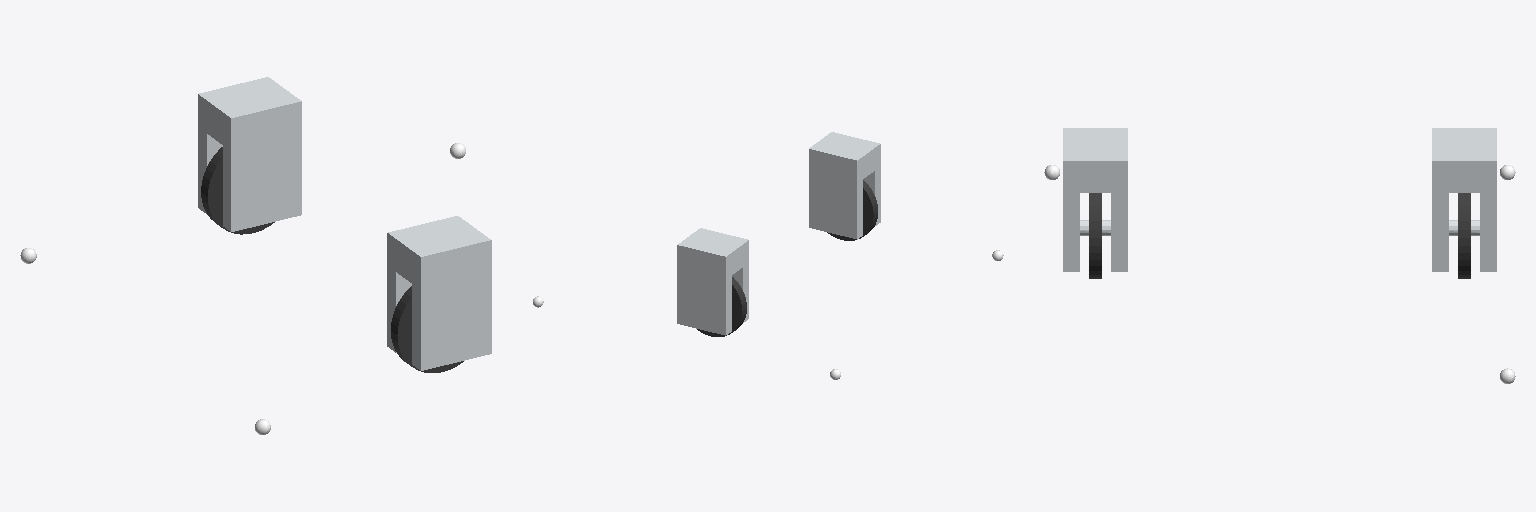
URDF robot description (robot_urdf):
<?xml version="1.0" encoding="utf-8"?>
<!-- This URDF was automatically created by SolidWorks to URDF Exporter! Originally created by
Stephen Brawner (brawner@gmail.com) 
     Commit Version: 1.6.0-4-g7f85cfe  Build Version: 1.6.7995.38578
     For more information, please see http://wiki.ros.org/sw_urdf_exporter -->
<robot
  name="robot_urdf">
  <link
    name="base_link">
  </link>
  <link
    name="chassis_link">
    <inertial>
      <origin
        xyz="-0.0030051 -4.1286E-16 -0.017698"
        rpy="0 0 0" />
      <mass
        value="62.522" />
      <inertia
        ixx="27.455"
        ixy="-5.3228E-14"
        ixz="-0.071116"
        iyy="29.275"
        iyz="-1.4137E-15"
        izz="51.49" />
    </inertial>
    <visual>
      <origin
        xyz="0 0 0"
        rpy="0 0 0" />
      <geometry>
        <mesh
          filename="package://robot_urdf/meshes/2w/chassis_link.STL" />
      </geometry>
      <material
        name="">
        <color
          rgba="0.89804 0.91765 0.92941 1" />
      </material>
    </visual>
    <collision>
      <origin
        xyz="0 0 0"
        rpy="0 0 0" />
      <geometry>
        <mesh
          filename="package://robot_urdf/meshes/2w/chassis_link.STL" />
      </geometry>
    </collision>
  </link>
  <joint
    name="chassis_joint"
    type="fixed">
    <origin
      xyz="0.011288 -0.015426 0.96832"
      rpy="0 0 0" />
    <parent
      link="base_link" />
    <child
      link="chassis_link" />
    <axis
      xyz="0 0 0" />
  </joint>
  <link
    name="left_wheel_holder_link">
    <inertial>
      <origin
        xyz="2.0817E-16 -2.2204E-16 -0.2296"
        rpy="0 0 0" />
      <mass
        value="4.2419" />
      <inertia
        ixx="0.1287"
        ixy="-1.0555E-16"
        ixz="-1.5933E-16"
        iyy="0.13522"
        iyz="5.002E-17"
        izz="0.079121" />
    </inertial>
    <visual>
      <origin
        xyz="0 0 0"
        rpy="0 0 0" />
      <geometry>
        <mesh
          filename="package://robot_urdf/meshes/2w/left_wheel_holder_link.STL" />
      </geometry>
      <material
        name="">
        <color
          rgba="0.89804 0.91765 0.92941 1" />
      </material>
    </visual>
    <collision>
      <origin
        xyz="0 0 0"
        rpy="0 0 0" />
      <geometry>
        <mesh
          filename="package://robot_urdf/meshes/2w/left_wheel_holder_link.STL" />
      </geometry>
    </collision>
  </link>
  <joint
    name="left_wheel_holder_joint"
    type="fixed">
    <origin
      xyz="-0.067275 0.7012 -0.42432"
      rpy="0 0 0" />
    <parent
      link="chassis_link" />
    <child
      link="left_wheel_holder_link" />
    <axis
      xyz="0 0 0" />
  </joint>
  <link
    name="left_wheel_link">
    <inertial>
      <origin
        xyz="-6.9389E-18 1.1102E-16 -2.7756E-17"
        rpy="0 0 0" />
      <mass
        value="5.9118" />
      <inertia
        ixx="0.056856"
        ixy="-6.9119E-18"
        ixz="-4.2487E-34"
        iyy="0.11125"
        iyz="-5.5409E-35"
        izz="0.056856" />
    </inertial>
    <visual>
      <origin
        xyz="0 0 0"
        rpy="0 0 0" />
      <geometry>
        <mesh
          filename="package://robot_urdf/meshes/2w/left_wheel_link.STL" />
      </geometry>
      <material
        name="">
        <color
          rgba="0.29804 0.29804 0.29804 1" />
      </material>
    </visual>
    <collision>
      <origin
        xyz="0 0 0"
        rpy="0 0 0" />
      <geometry>
        <mesh
          filename="package://robot_urdf/meshes/2w/left_wheel_link.STL" />
      </geometry>
    </collision>
  </link>
  <joint
    name="left_wheel_joint"
    type="continuous">
    <origin
      xyz="0 0 -0.35"
      rpy="0 0 0" />
    <parent
      link="left_wheel_holder_link" />
    <child
      link="left_wheel_link" />
    <axis
      xyz="0 1 0" />
    <dynamics damping="0.1" friction="0.05" />
    <limit
      effort="100"
      velocity="10" />
  </joint>
  <link
    name="right_wheel_holder_link">
    <inertial>
      <origin
        xyz="1.1102E-16 -1.1102E-16 -0.2296"
        rpy="0 0 0" />
      <mass
        value="4.2419" />
      <inertia
        ixx="0.1287"
        ixy="-8.8611E-17"
        ixz="-1.7835E-16"
        iyy="0.13522"
        iyz="-2.9429E-18"
        izz="0.079121" />
    </inertial>
    <visual>
      <origin
        xyz="0 0 0"
        rpy="0 0 0" />
      <geometry>
        <mesh
          filename="package://robot_urdf/meshes/2w/right_wheel_holder_link.STL" />
      </geometry>
      <material
        name="">
        <color
          rgba="0.89804 0.91765 0.92941 1" />
      </material>
    </visual>
    <collision>
      <origin
        xyz="0 0 0"
        rpy="0 0 0" />
      <geometry>
        <mesh
          filename="package://robot_urdf/meshes/2w/right_wheel_holder_link.STL" />
      </geometry>
    </collision>
  </link>
  <joint
    name="right_wheel_holder_joint"
    type="fixed">
    <origin
      xyz="-0.067275 -0.7012 -0.42432"
      rpy="0 0 0" />
    <parent
      link="chassis_link" />
    <child
      link="right_wheel_holder_link" />
    <axis
      xyz="0 0 0" />
  </joint>
  <link
    name="right_wheel_link">
    <inertial>
      <origin
        xyz="-6.9389E-18 -1.1102E-16 -2.7756E-17"
        rpy="0 0 0" />
      <mass
        value="5.9118" />
      <inertia
        ixx="0.056856"
        ixy="-3.2189E-35"
        ixz="-8.4142E-34"
        iyy="0.11125"
        iyz="1.4733E-18"
        izz="0.056856" />
    </inertial>
    <visual>
      <origin
        xyz="0 0 0"
        rpy="0 0 0" />
      <geometry>
        <mesh
          filename="package://robot_urdf/meshes/2w/right_wheel_link.STL" />
      </geometry>
      <material
        name="">
        <color
          rgba="0.29804 0.29804 0.29804 1" />
      </material>
    </visual>
    <collision>
      <origin
        xyz="0 0 0"
        rpy="0 0 0" />
      <geometry>
        <mesh
          filename="package://robot_urdf/meshes/2w/right_wheel_link.STL" />
      </geometry>
    </collision>
  </link>

  <joint
    name="right_wheel_joint"
    type="continuous">
    <origin
      xyz="0 0 -0.35"
      rpy="0 0 0" />
    <parent
      link="right_wheel_holder_link" />
    <child
      link="right_wheel_link" />
    <axis
      xyz="0 1 0" />
    <dynamics damping="0.1" friction="0.05" />
    <limit
      effort="100"
      velocity="10" />
  </joint>

  <link
    name="depth_link_r">
  </link>

  <joint
    name="depth_joint_r"
    type="fixed">
    <origin
      xyz="1.017 -0.45 -0.21645"
      rpy="0 0.7853982 0.2618" />
    <parent
      link="chassis_link" />
    <child
      link="depth_link_r" />
    <axis
      xyz="0 0 0" />
  </joint>

  <link
    name="depth_link_l">
  </link>

  <joint
    name="depth_joint_l"
    type="fixed">
    <origin
      xyz="1.017 0.45 -0.21645"
      rpy="0 0.7853982 -0.2618" />
    <parent
      link="chassis_link" />
    <child
      link="depth_link_l" />
    <axis
      xyz="0 0 0" />
  </joint>

  <link
    name="ball_link_fl">
    <inertial>
      <origin
        xyz="0 0 0"
        rpy="0 0 0" />
      <mass
        value="0.20471" />
      <inertia
        ixx="7.3694E-05"
        ixy="0"
        ixz="0"
        iyy="7.3694E-05"
        iyz="0"
        izz="7.3694E-05" />
    </inertial>
    <visual>
      <origin
        xyz="0 0 0"
        rpy="0 0 0" />
      <geometry>
        <mesh
          filename="package://robot_urdf/meshes/2w/ball_link_fl.STL" />
      </geometry>
      <material
        name="">
        <color
          rgba="1 1 1 1" />
      </material>
    </visual>
    <collision>
      <origin xyz="0 0 0" rpy="0 0 0" />
      <geometry>
        <sphere radius="0.025" />
      </geometry>
    </collision>
  </link>

  <joint
    name="ball_joint_fl"
    type="fixed">
    <origin
      xyz="0.917 0.866 -0.93831"
      rpy="0 0 0" />
    <parent
      link="chassis_link" />
    <child
      link="ball_link_fl" />
    <axis
      xyz="0 0 0" />
  </joint>

  <link
    name="ball_link_fr">
    <inertial>
      <origin
        xyz="0 -1.1102E-16 0"
        rpy="0 0 0" />
      <mass
        value="0.20471" />
      <inertia
        ixx="7.3694E-05"
        ixy="0"
        ixz="0"
        iyy="7.3694E-05"
        iyz="0"
        izz="7.3694E-05" />
    </inertial>
    <visual>
      <origin
        xyz="0 0 0"
        rpy="0 0 0" />
      <geometry>
        <mesh
          filename="package://robot_urdf/meshes/2w/ball_link_fr.STL" />
      </geometry>
      <material
        name="">
        <color
          rgba="1 1 1 1" />
      </material>
    </visual>
    <collision>
      <origin xyz="0 0 0" rpy="0 0 0" />
      <geometry>
        <sphere radius="0.025" />
      </geometry>
    </collision>
  </link>

  <joint
    name="ball_joint_fr"
    type="fixed">
    <origin
      xyz="0.917 -0.866 -0.93831"
      rpy="0 0 0" />
    <parent
      link="chassis_link" />
    <child
      link="ball_link_fr" />
    <axis
      xyz="0 0 0" />
  </joint>

  <link
    name="ball_link_br">
    <inertial>
      <origin
        xyz="0 -1.1102E-16 0"
        rpy="0 0 0" />
      <mass
        value="0.20471" />
      <inertia
        ixx="7.3694E-05"
        ixy="0"
        ixz="0"
        iyy="7.3694E-05"
        iyz="0"
        izz="7.3694E-05" />
    </inertial>
    <visual>
      <origin
        xyz="0 0 0"
        rpy="0 0 0" />
      <geometry>
        <mesh
          filename="package://robot_urdf/meshes/2w/ball_link_br.STL" />
      </geometry>
      <material
        name="">
        <color
          rgba="1 1 1 1" />
      </material>
    </visual>
    <collision>
      <origin xyz="0 0 0" rpy="0 0 0" />
      <geometry>
        <sphere radius="0.025" />
      </geometry>
    </collision>
  </link>

  <joint
    name="ball_joint_br"
    type="fixed">
    <origin
      xyz="-0.917 -0.866 -0.93831"
      rpy="3.1416 0 3.1416" />
    <parent
      link="chassis_link" />
    <child
      link="ball_link_br" />
    <axis
      xyz="0 0 0" />
  </joint>

  <link
    name="ball_link_bl">
    <inertial>
      <origin
        xyz="0 0 0"
        rpy="0 0 0" />
      <mass
        value="0.20471" />
      <inertia
        ixx="7.3694E-05"
        ixy="0"
        ixz="0"
        iyy="7.3694E-05"
        iyz="0"
        izz="7.3694E-05" />
    </inertial>
    <visual>
      <origin
        xyz="0 0 0"
        rpy="0 0 0" />
      <geometry>
        <mesh
          filename="package://robot_urdf/meshes/2w/ball_link_bl.STL" />
      </geometry>
      <material
        name="">
        <color
          rgba="1 1 1 1" />
      </material>
    </visual>
    <collision>
      <origin xyz="0 0 0" rpy="0 0 0" />
      <geometry>
        <sphere radius="0.025" />
      </geometry>
    </collision>
  </link>

  <joint
    name="ball_joint_bl"
    type="fixed">
    <origin
      xyz="-0.917 0.866 -0.93831"
      rpy="0 0 0" />
    <parent
      link="chassis_link" />
    <child
      link="ball_link_bl" />
    <axis
      xyz="0 0 0" />
  </joint>

  <link name="path_plane"/>

  <joint
    name="path_plane_joint"
    type="fixed">
    <origin
      xyz="1.017 0 -0.93831"
      rpy="0 0 0" />
    <parent
      link="chassis_link" />
    <child
      link="path_plane" />
    <axis
      xyz="0 0 0" />
  </joint>

  <ros2_control name="IgnitionSystem" type="system">

    <hardware>
      <plugin>ign_ros2_control/IgnitionSystem</plugin>
    </hardware>

    <joint name="left_wheel_joint">
      <command_interface name="velocity" />
      <state_interface name="position" />
      <state_interface name="velocity" />
    </joint>

    <joint name="right_wheel_joint">
      <command_interface name="velocity" />
      <state_interface name="position" />
      <state_interface name="velocity" />
    </joint>

  </ros2_control>

  <gazebo>

    <plugin filename="libign_ros2_control-system.so"
      name="ign_ros2_control::IgnitionROS2ControlPlugin">
      <robot_param>robot_description</robot_param>
      <robot_param_node>robot_state_publisher</robot_param_node>
      <parameters>/home/manfred/Projects/Vitrox/src/robot_urdf/config/diffdrive.yaml</parameters>
    </plugin>

  </gazebo>

  <gazebo reference="left_wheel_link">
    <mu1>1.2</mu1>
    <mu2>1.2</mu2>
    <kp>1000000.0</kp>
    <kd>100.0</kd>
    <minDepth>0.001</minDepth>
    <maxContacts>1</maxContacts>
  </gazebo>

  <gazebo reference="right_wheel_link">
    <mu1>1.2</mu1>
    <mu2>1.2</mu2>
    <kp>1000000.0</kp>
    <kd>100.0</kd>
    <minDepth>0.001</minDepth>
    <maxContacts>1</maxContacts>
  </gazebo>

  <gazebo reference="ball_link_fl">
    <mu1>0.0</mu1>
    <mu2>0.0</mu2>
  </gazebo>

  <gazebo reference="ball_link_fr">
    <mu1>0.0</mu1>
    <mu2>0.0</mu2>
  </gazebo>

  <gazebo reference="ball_link_br">
    <mu1>0.0</mu1>
    <mu2>0.0</mu2>
  </gazebo>

  <gazebo reference="ball_link_bl">
    <mu1>0.0</mu1>
    <mu2>0.0</mu2>
  </gazebo>

  <gazebo reference="depth_link_l">
    <sensor name="depth_sensor_l" type="gpu_lidar">
      <ignition_frame_id>depth_link_l</ignition_frame_id>
      <topic>lidar_l</topic>
      <update_rate>10</update_rate>
      <always_on>true</always_on>
      <visualize>false</visualize> <!-- Keep false to save resources unless debugging rays -->
      <lidar>
        <scan>
          <horizontal>
            <samples>360</samples>
            <resolution>1</resolution>
            <min_angle>-0.50705</min_angle>
            <max_angle>0.50705</max_angle>
          </horizontal>
          <vertical>
            <samples>100</samples> <!-- 16 vertical slices provides a good 3D point cloud -->
            <resolution>1</resolution>
            <min_angle>-0.39445</min_angle> <!-- -15 degrees -->
            <max_angle>0.39445</max_angle>  <!-- +15 degrees -->
          </vertical>
        </scan>
        <range>
          <min>0.1</min>
          <max>15.0</max> <!-- 15 meter range is typical -->
          <resolution>0.01</resolution>
        </range>
        <noise>
          <type>gaussian</type>
          <mean>0.0</mean>
          <stddev>0.01</stddev>
        </noise>
      </lidar>
    </sensor>
  </gazebo>

  <gazebo reference="depth_link_r">
    <sensor name="depth_sensor_r" type="gpu_lidar">
      <ignition_frame_id>depth_link_r</ignition_frame_id>
      <topic>lidar_r</topic>
      <update_rate>10</update_rate>
      <always_on>true</always_on>
      <visualize>false</visualize>
      <lidar>
        <scan>
          <horizontal>
            <samples>360</samples>
            <resolution>1</resolution>
            <min_angle>-0.50705</min_angle>
            <max_angle>0.50705</max_angle>
          </horizontal>
          <vertical>
            <samples>100</samples>
            <resolution>1</resolution>
            <min_angle>-0.39445</min_angle>
            <max_angle>0.39445</max_angle>
          </vertical>
        </scan>
        <range>
          <min>0.1</min>
          <max>15.0</max>
          <resolution>0.01</resolution>
        </range>
        <noise>
          <type>gaussian</type>
          <mean>0.0</mean>
          <stddev>0.01</stddev>
        </noise>
      </lidar>
    </sensor>
  </gazebo>

</robot>

--- Render facts (derived) ---
The picture shows the robot from 3 angles, left to right: view 1: azimuth 30°, elevation 25°; view 2: azimuth 150°, elevation 25°; view 3: azimuth 270°, elevation 25°; orthographic projection.
Model robot_urdf with 13 links and 12 joints (2 continuous, 10 fixed), rooted at base_link, posed every joint at zero.
Links seen in each view (by area): view 1: right_wheel_holder_link, left_wheel_holder_link, left_wheel_link, right_wheel_link; view 2: left_wheel_holder_link, right_wheel_holder_link, right_wheel_link, left_wheel_link; view 3: left_wheel_holder_link, right_wheel_holder_link, left_wheel_link, right_wheel_link.
Link boxes in pixels (x1,y1,x2,y2): right_wheel_holder_link: [387, 216, 491, 370]; left_wheel_holder_link: [198, 77, 301, 231]; left_wheel_link: [201, 147, 274, 234]; right_wheel_link: [391, 286, 463, 372]; left_wheel_holder_link: [677, 228, 748, 335]; right_wheel_holder_link: [809, 132, 880, 239]; right_wheel_link: [827, 180, 877, 240]; left_wheel_link: [697, 277, 746, 336]; left_wheel_holder_link: [1432, 128, 1496, 271]; right_wheel_holder_link: [1063, 128, 1127, 271]; left_wheel_link: [1458, 193, 1470, 278]; right_wheel_link: [1089, 193, 1101, 278].
Bounding box of the posed robot: 1.89 × 1.79 × 0.544 m (x, y, z).
7 mesh visuals loaded from 9 distinct referenced files (7 binary STL); not drawn: 2 (reference not matched to a file when rendering).
